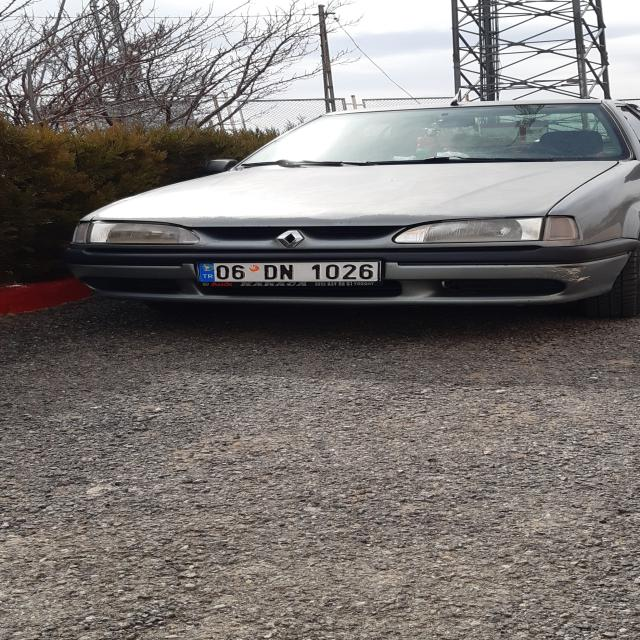plate: (200, 261, 379, 282)
